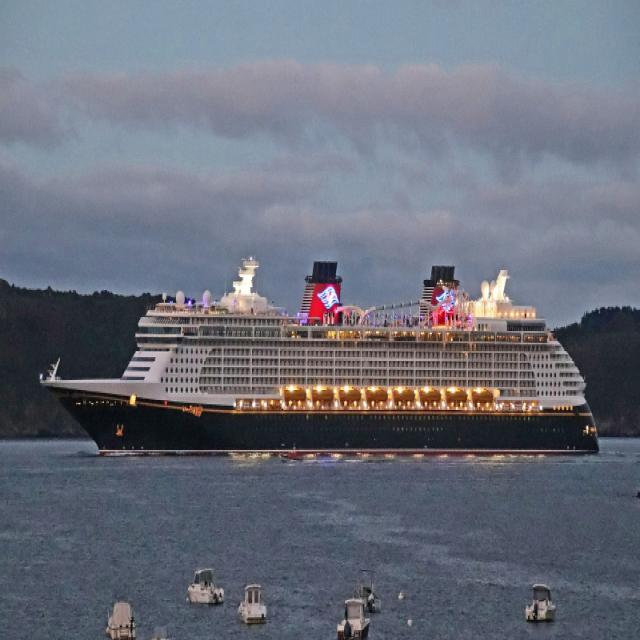cruises: (36, 252, 603, 464)
